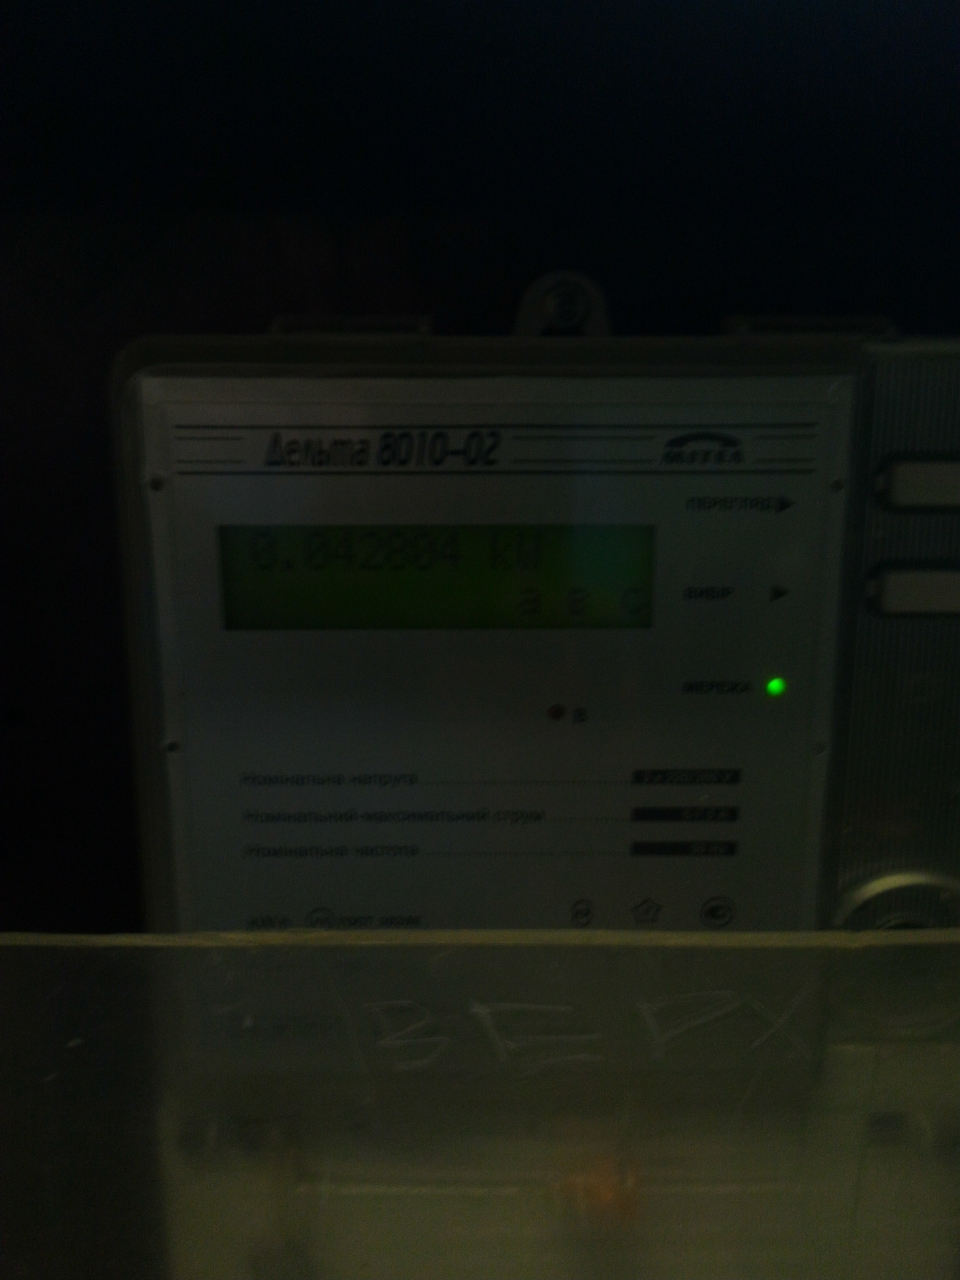screen: (199, 503, 677, 650)
